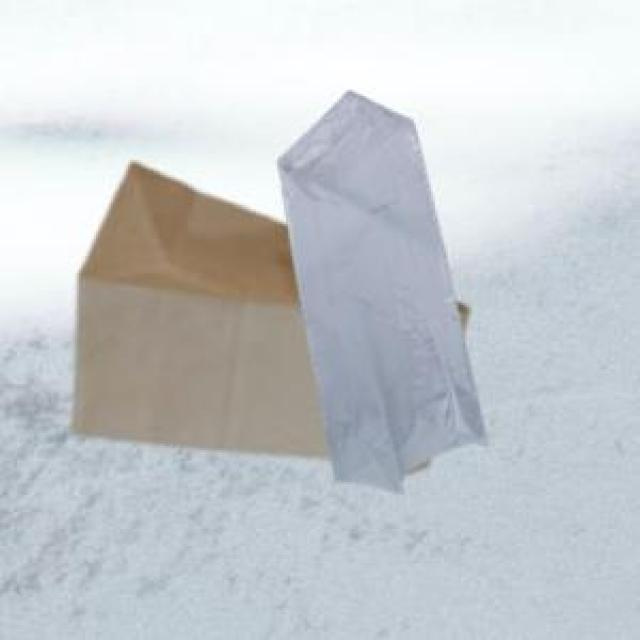paper: (68, 160, 465, 469)
